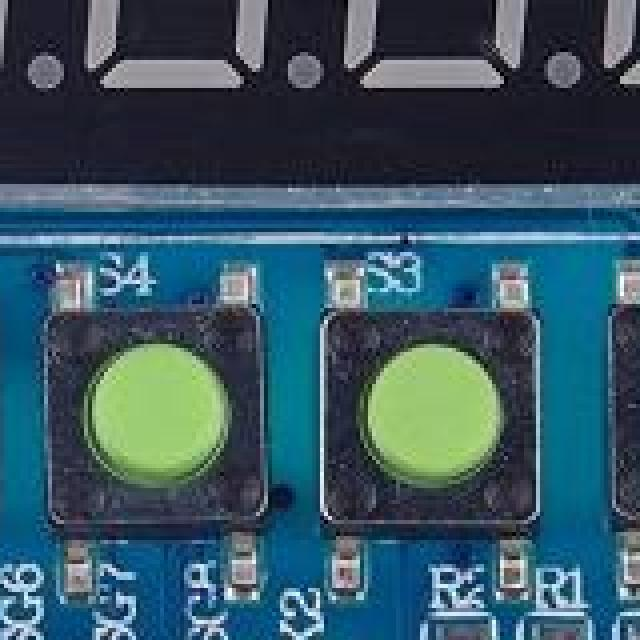capacitor: (624, 624, 640, 640)
display: (0, 0, 640, 200)
resistor: (424, 628, 496, 640)
switch: (44, 276, 282, 560), (312, 276, 546, 564), (608, 284, 640, 552)
